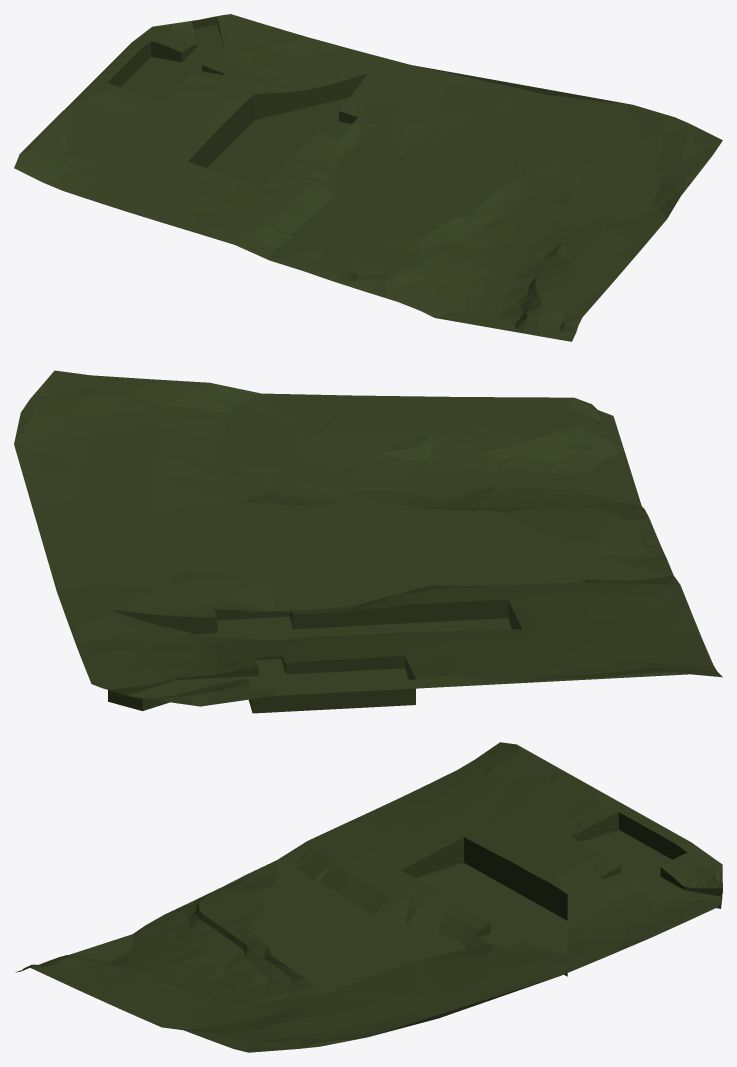
Rendered from rac_basic_sample_project_IfcSite.dae.
3 renders of one model, top to bottom at view 1: azimuth 30°, elevation 25°; view 2: azimuth 150°, elevation 25°; view 3: azimuth 270°, elevation 25°, orthographic. The views are drawn at different scales.
Visible parts, largest first — view 1: 3lIj7B0LnBjf0mvxk2zve8; view 2: 3lIj7B0LnBjf0mvxk2zve8; view 3: 3lIj7B0LnBjf0mvxk2zve8.
Part boxes in pixels (box(x1,y1,x2,y2)): 3lIj7B0LnBjf0mvxk2zve8: box(14, 14, 722, 341); 3lIj7B0LnBjf0mvxk2zve8: box(14, 370, 722, 713); 3lIj7B0LnBjf0mvxk2zve8: box(15, 742, 722, 1052).
Size of the model in its own units: 83.55 by 87.2 by 10.8.
